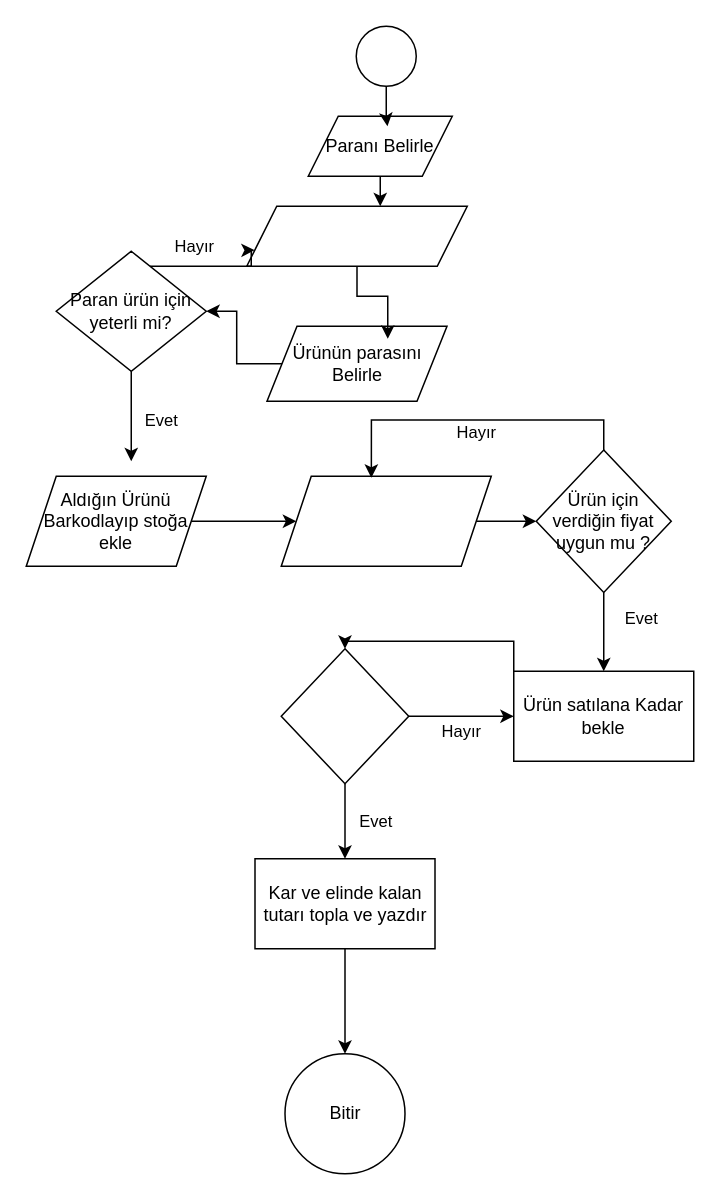
This 720x1200 diagram has some shape labels left out. The shapes that lost their labels are listed below. From the top down, each one's centre as x and y in pixels, then its label:
At point (385, 55): "Başla".
At point (356, 235): "Alıcağın Ürünü Belirle".
At point (385, 520): "Ürünü satacağın fiyatı belirle ve satışa koy".
At point (344, 715): "ürün satıldı mı?".
